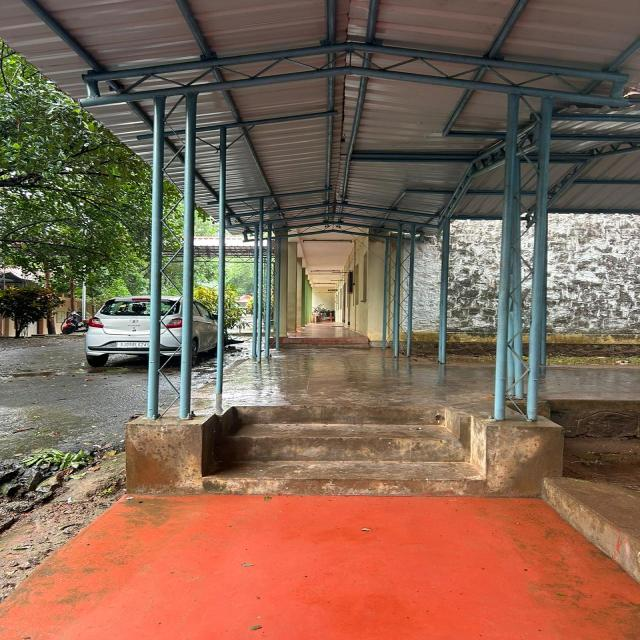pillar ahead at: (496, 89, 559, 496), (143, 96, 203, 499)
stairs ahead at: (212, 408, 494, 494)
